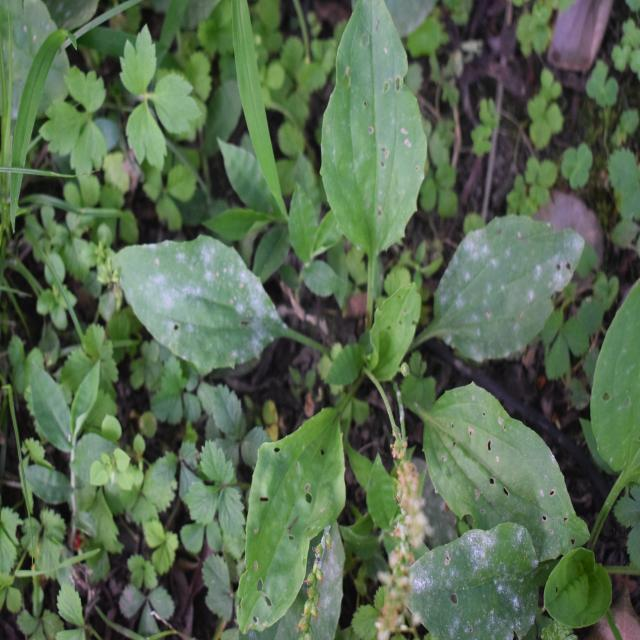plantain: (150, 51, 588, 594)
